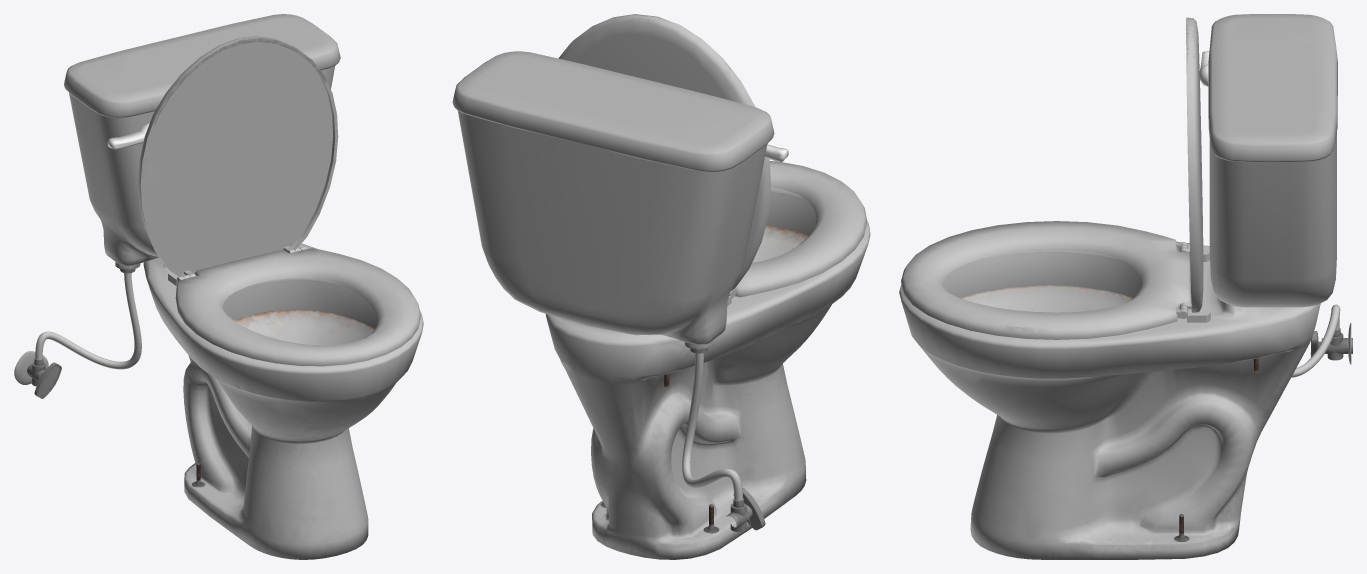
Rendered from toilet_hippostance.glb.
3 views of the same model, side by side, from view 1: azimuth 30°, elevation 25°; view 2: azimuth 150°, elevation 25°; view 3: azimuth 270°, elevation 25° (orthographic). The views are drawn at different scales.
Parts seen in each view (by area): view 1: Toilet_Toilet_0; view 2: Toilet_Toilet_0; view 3: Toilet_Toilet_0.
Boxes of the visible parts, x1,y1,x2,y2 form: Toilet_Toilet_0: [14, 14, 423, 559]; Toilet_Toilet_0: [452, 14, 870, 559]; Toilet_Toilet_0: [899, 14, 1352, 559].
Bounding box in the file's own units: 0.4784 × 0.7435 × 0.607.
1 material, 1 textured.
